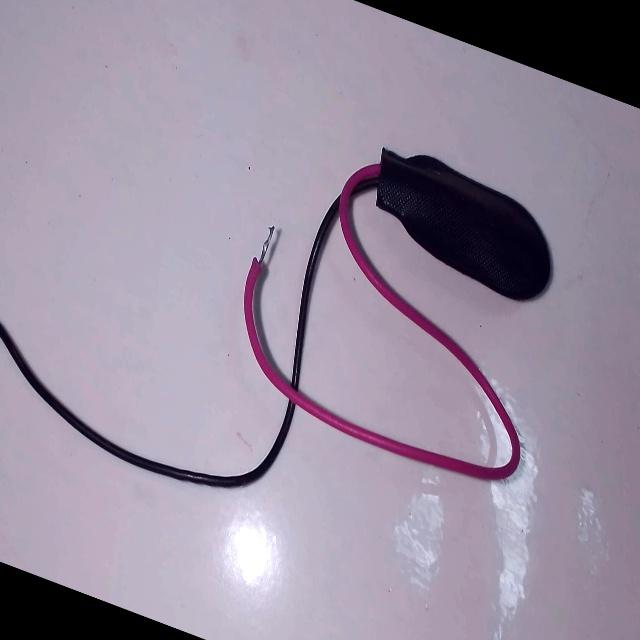Battery Holder: (222, 81, 570, 548)
